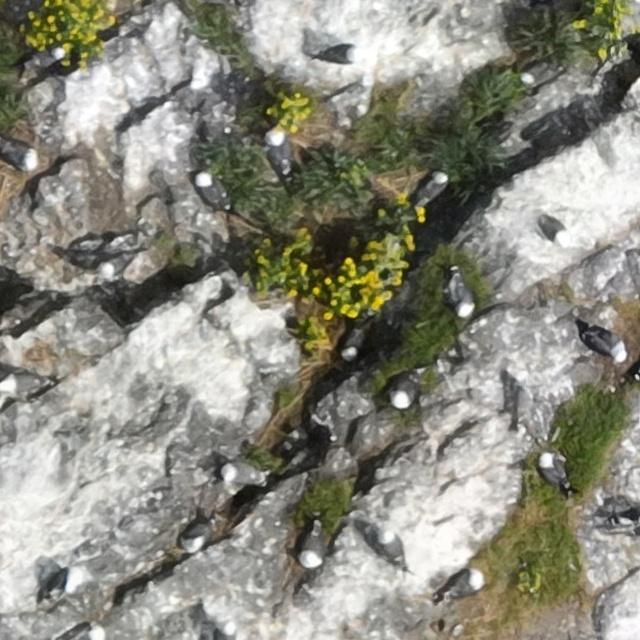umineko: (533, 212, 574, 250), (182, 518, 220, 557), (378, 528, 408, 573), (451, 268, 476, 320), (50, 564, 83, 603), (592, 332, 628, 359), (196, 176, 225, 209), (2, 145, 38, 170), (417, 174, 445, 205), (451, 571, 485, 595), (540, 456, 565, 488), (302, 529, 324, 565), (270, 136, 291, 173), (222, 464, 262, 483), (316, 46, 358, 64), (25, 48, 62, 67), (4, 374, 42, 392), (342, 328, 364, 358), (392, 376, 414, 406), (102, 256, 131, 276), (523, 62, 551, 82)
